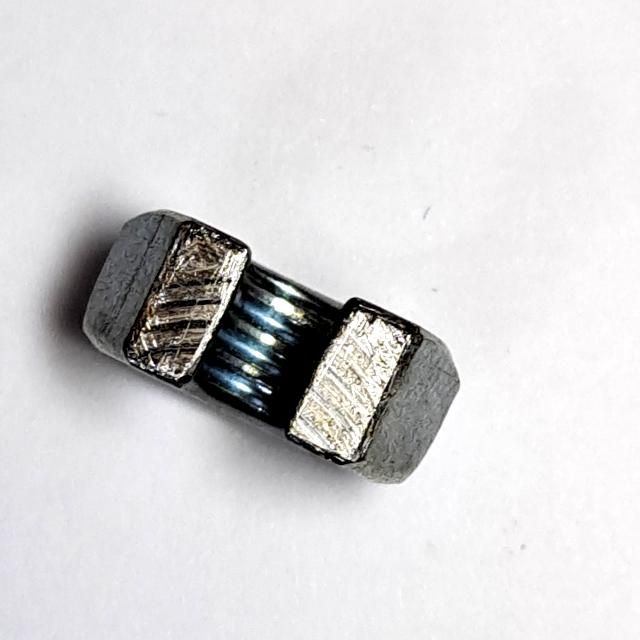Side-Fracture: (75, 198, 473, 497)
